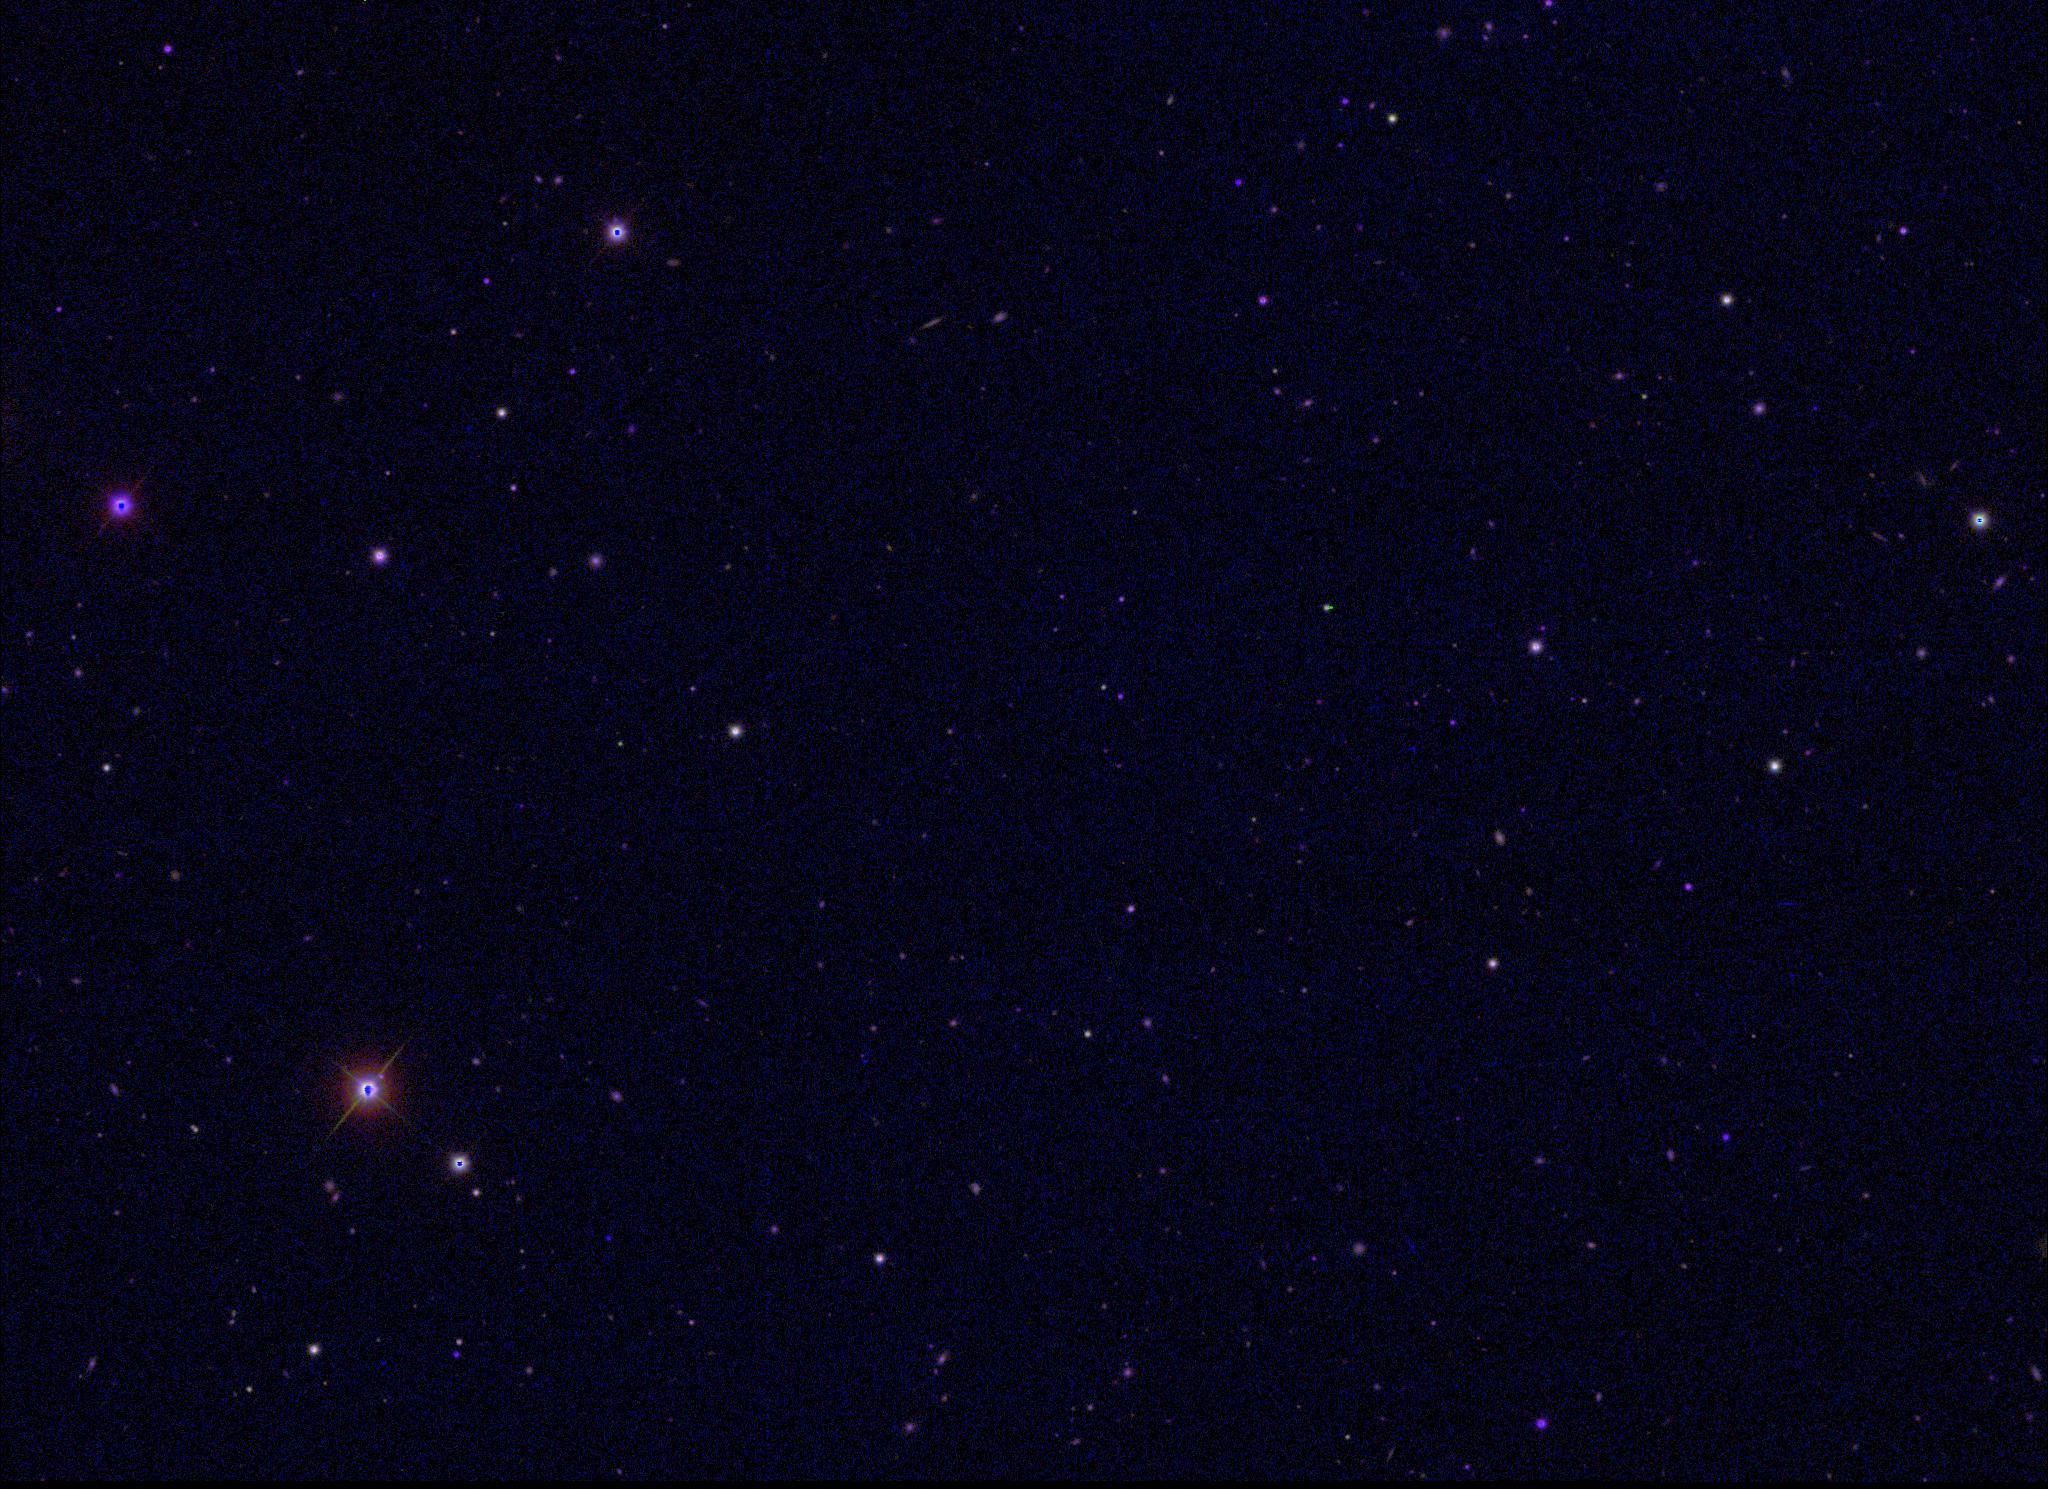L: (603, 1231, 615, 1246)
